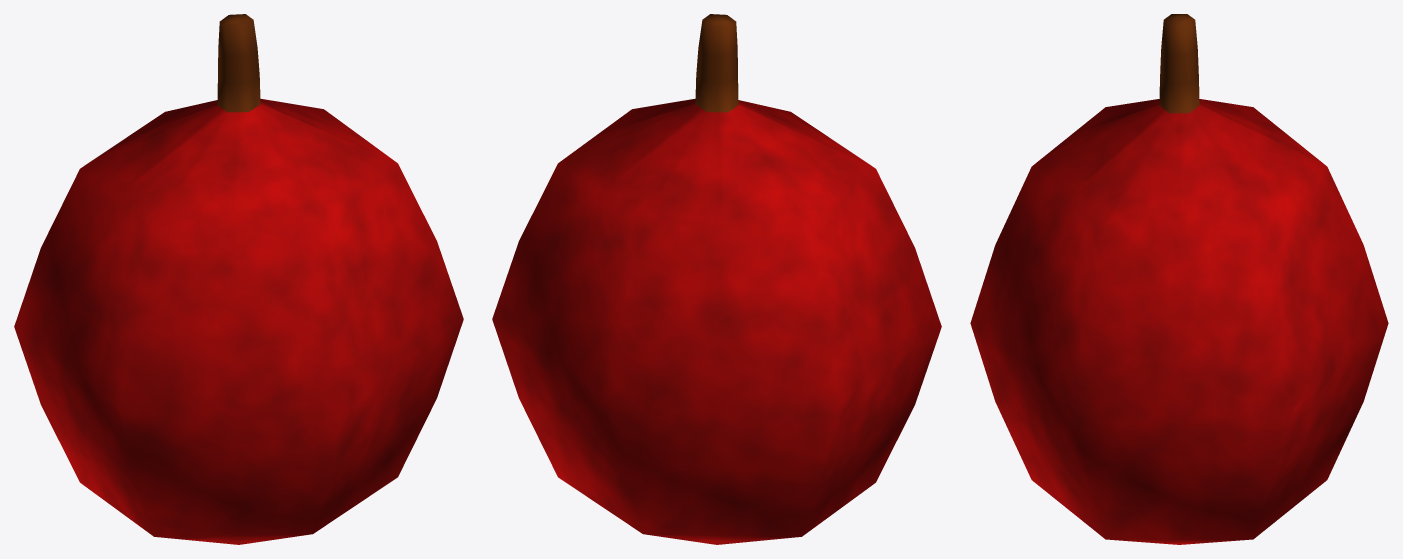
The model's file is Apple2.glb.
3 views of the same model, side by side, from view 1: azimuth 30°, elevation 25°; view 2: azimuth 150°, elevation 25°; view 3: azimuth 270°, elevation 25° (orthographic).
Visible parts, largest first — view 1: Apple.001; view 2: Apple.001; view 3: Apple.001.
Boxes of the visible parts, left/top/right/bottom form: Apple.001: left=14, top=14, right=463, bottom=544; Apple.001: left=492, top=14, right=941, bottom=544; Apple.001: left=970, top=14, right=1388, bottom=544.
Size of the model in its own units: 1.7 by 2.48 by 1.79.
2 materials, 2 textured.
